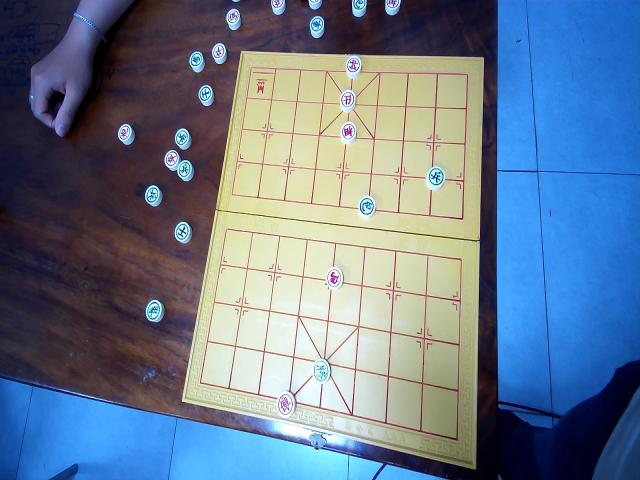piece: (276, 391, 295, 418), (426, 165, 446, 190), (145, 299, 164, 323), (312, 358, 330, 383), (358, 195, 376, 219), (325, 266, 343, 290), (174, 221, 192, 244), (174, 127, 192, 150), (144, 184, 162, 207), (117, 123, 135, 145), (345, 55, 362, 78), (163, 148, 180, 170), (340, 121, 356, 144), (340, 88, 356, 111), (211, 42, 227, 64), (198, 84, 214, 106), (177, 159, 193, 181), (309, 15, 325, 37), (189, 51, 205, 72), (226, 7, 240, 30), (351, 0, 367, 17), (384, 0, 400, 15), (270, 0, 286, 15), (308, 0, 322, 10)
